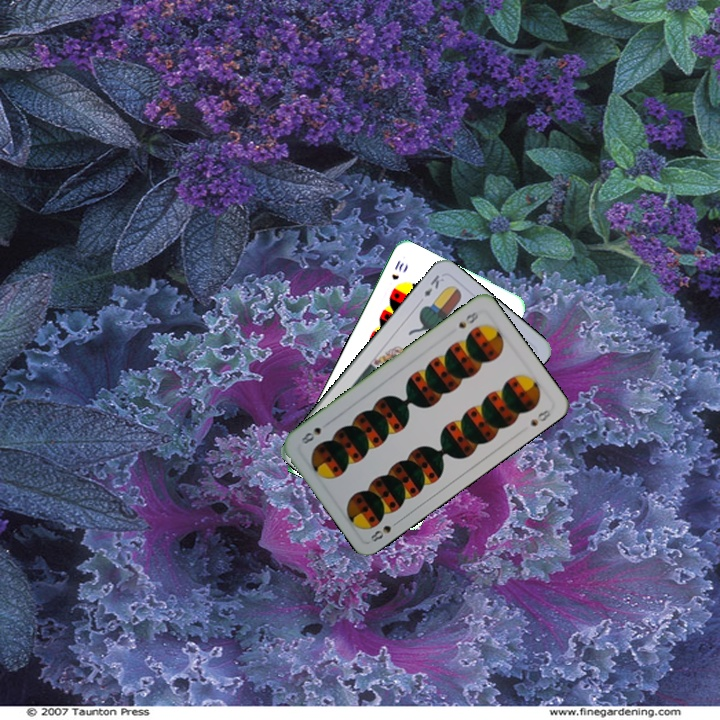EK: (415, 271, 447, 306)
S10: (387, 256, 406, 283)
S8: (366, 516, 403, 545), (454, 307, 481, 331)
